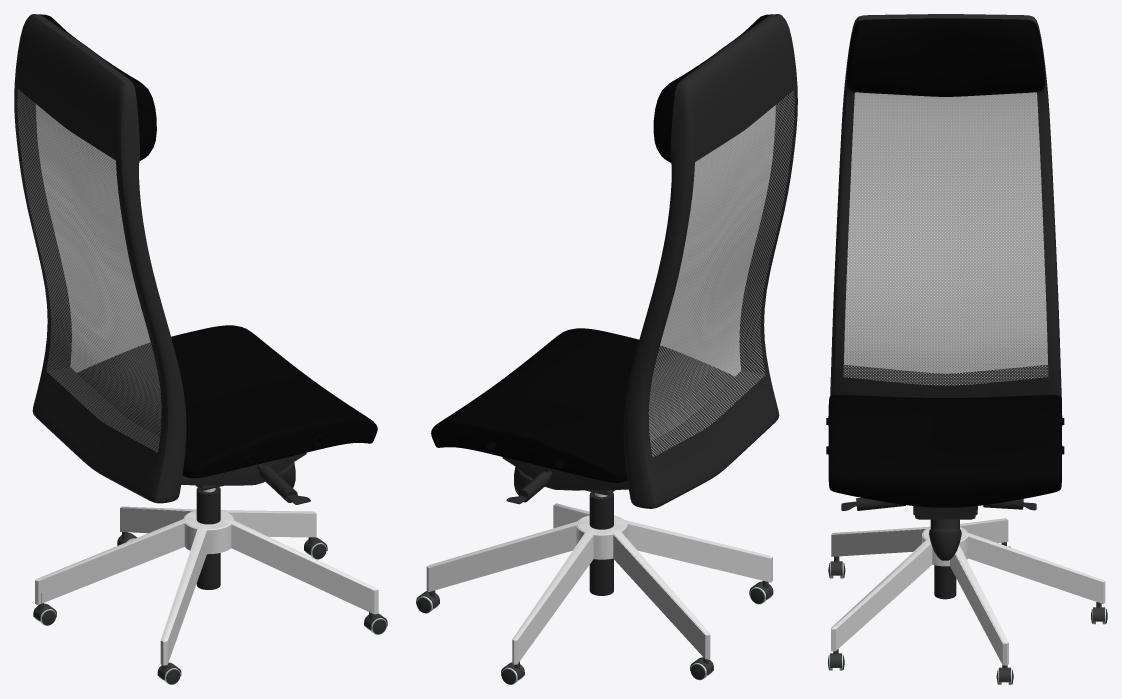
File: office_chair.glb
The picture shows the model from 3 angles, left to right: view 1: azimuth 30°, elevation 25°; view 2: azimuth 150°, elevation 25°; view 3: azimuth 270°, elevation 25°; orthographic projection. The views are drawn at different scales.
Parts seen in each view (by area): view 1: Back_2, Back.001_32, Seat_3, Cylinder_7, Cube_5, Cylinder.021_11; view 2: Back_2, Back.001_32, Seat_3, Cylinder_7, Cube_5; view 3: Back.001_32, Back_2, Seat_3, Cylinder_7, Cube_5, Bottom part 1_4.
Part boxes in pixels (bbox=[...]): Back_2: bbox=[14, 14, 186, 503]; Back.001_32: bbox=[17, 89, 161, 452]; Seat_3: bbox=[77, 325, 377, 478]; Cylinder_7: bbox=[35, 487, 378, 665]; Cube_5: bbox=[181, 452, 306, 487]; Cylinder.021_11: bbox=[257, 464, 297, 502]; Back_2: bbox=[623, 14, 797, 508]; Back.001_32: bbox=[648, 90, 794, 456]; Seat_3: bbox=[431, 328, 733, 482]; Cylinder_7: bbox=[426, 492, 772, 664]; Cube_5: bbox=[502, 457, 628, 494]; Back.001_32: bbox=[843, 92, 1048, 385]; Back_2: bbox=[830, 14, 1061, 402]; Seat_3: bbox=[826, 395, 1064, 507]; Cylinder_7: bbox=[831, 518, 1105, 665]; Cube_5: bbox=[915, 515, 975, 560]; Bottom part 1_4: bbox=[913, 506, 977, 515].
Size of the model in its own units: 1.51 by 2.99 by 1.39.
9 materials, 2 textured.
